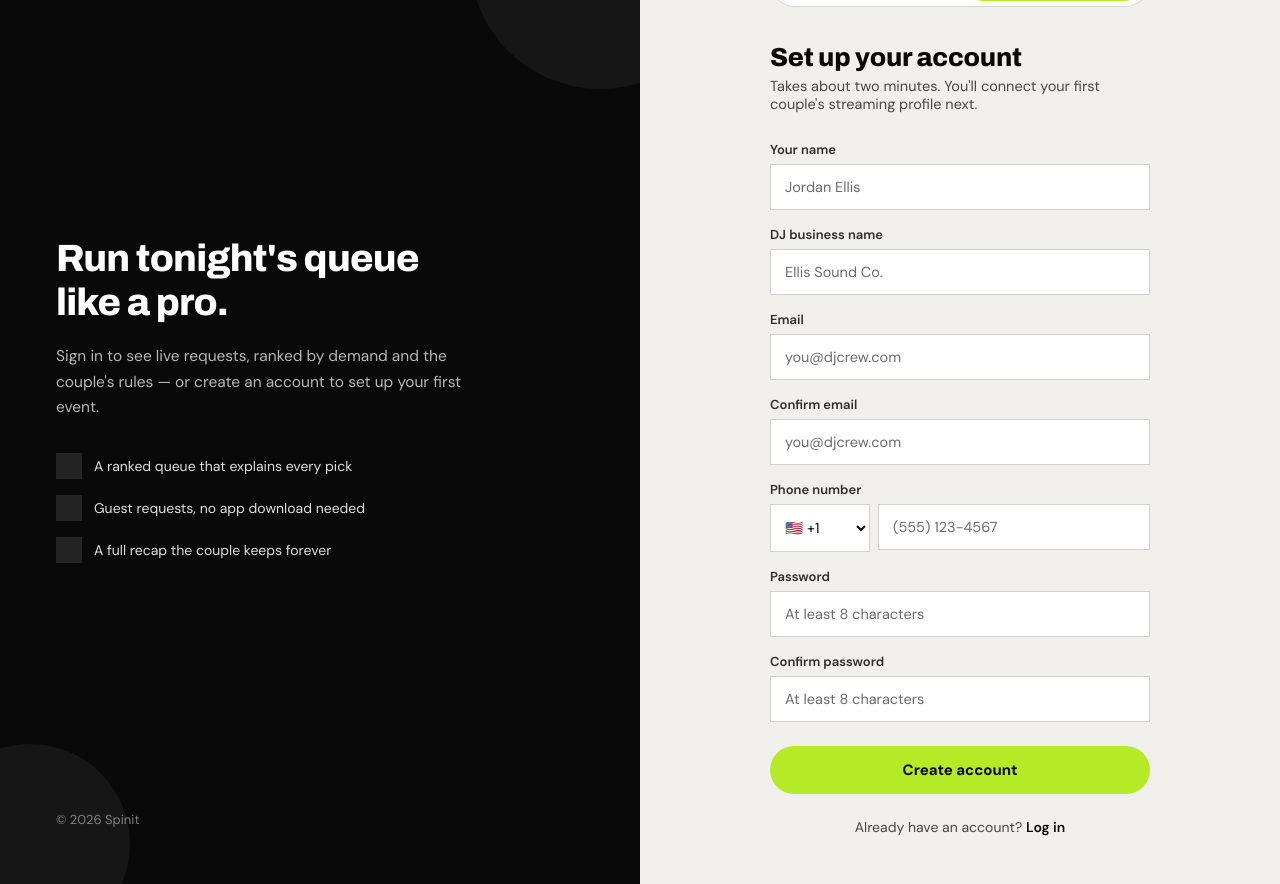
Scenario: AuthScreen › switches back to login mode via the inline "Log in" control at the foot of the register form
(page scrolled)
Click the button "Log in" at (1046, 827), box left=1026, top=818, right=1065, bottom=836
(page scrolled)
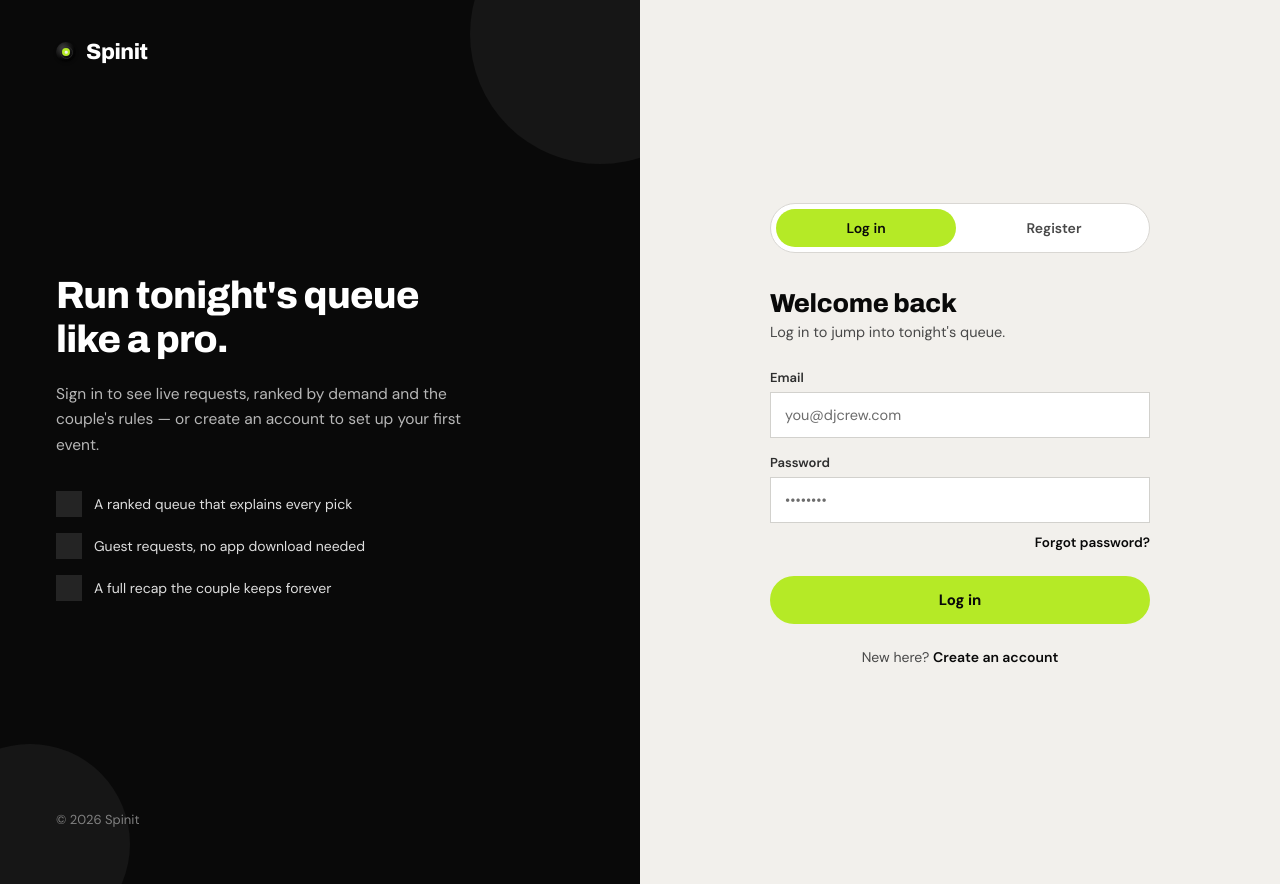
Expected: the field labelled "Email" is shown, left=770, top=392, right=1150, bottom=438
Expected: the text labelled "Your name" is gone
